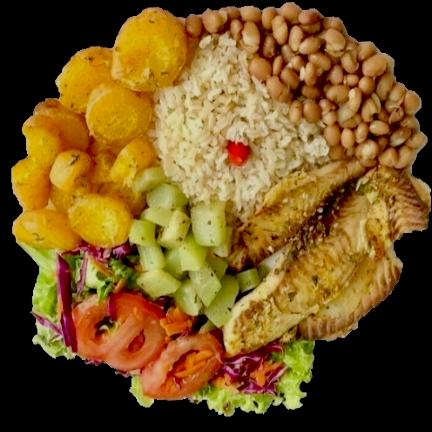beans: (181, 7, 424, 172)
cassava: (13, 6, 191, 255)
fish: (224, 159, 431, 359)
green_vegetables: (124, 172, 262, 330)
rice: (152, 34, 330, 214)
salad: (18, 243, 134, 365), (197, 331, 317, 413)
tomato: (59, 291, 219, 401)
